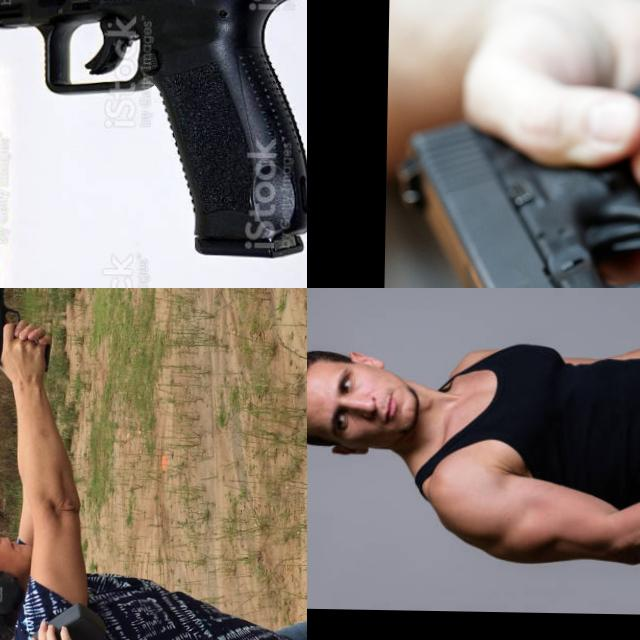handgun: (0, 0, 307, 263), (386, 27, 640, 288), (0, 288, 25, 374)
